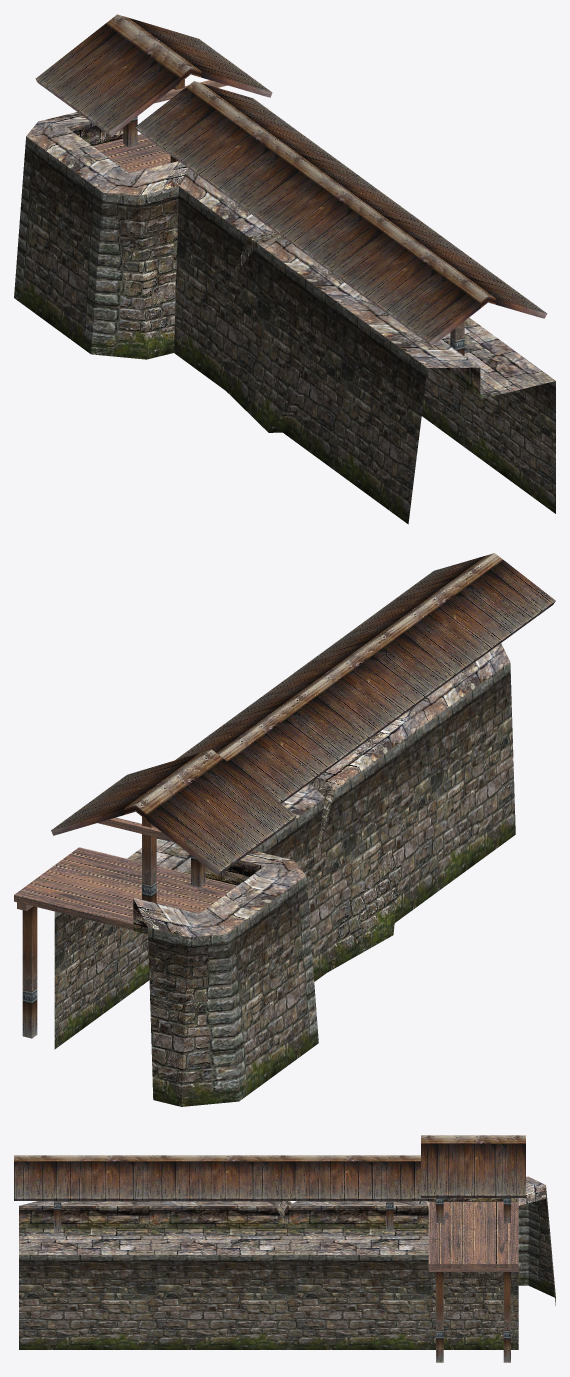
File: m_wall5.glb
3 views of the same model, one above another, from view 1: azimuth 30°, elevation 25°; view 2: azimuth 150°, elevation 25°; view 3: azimuth 270°, elevation 25° (orthographic). The views are drawn at different scales.
Visible parts, largest first — view 1: m_wall5-col; view 2: m_wall5-col; view 3: m_wall5-col.
Boxes of the visible parts, x1=… form: m_wall5-col: x1=14, y1=14, x2=555, y2=524; m_wall5-col: x1=14, y1=553, x2=555, y2=1106; m_wall5-col: x1=14, y1=1135, x2=555, y2=1362.
Bounding box in the file's own units: 7.4 × 8.2 × 21.7.
Materials: 8 (8 with a texture image).
